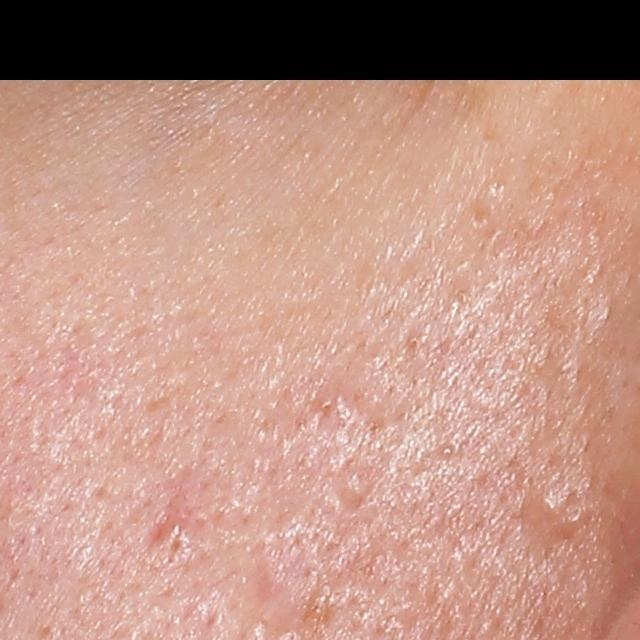comedo: (528, 479, 572, 523), (335, 470, 370, 508), (438, 442, 457, 461)
